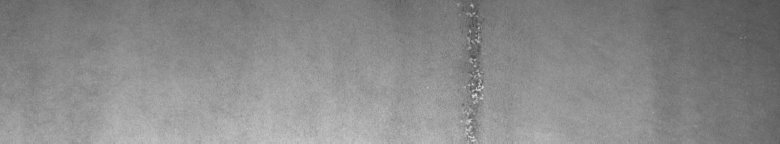hc: (460, 4, 486, 136)
